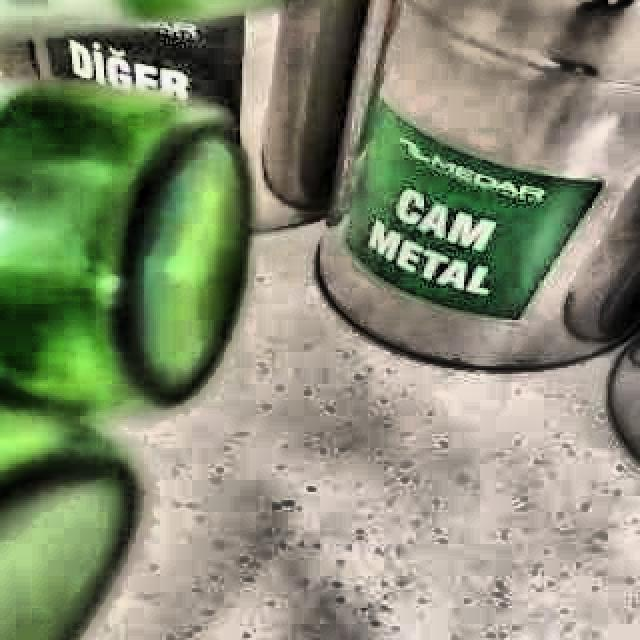glass: (0, 83, 248, 640)
